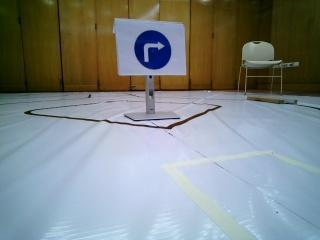right: (119, 20, 186, 75)
